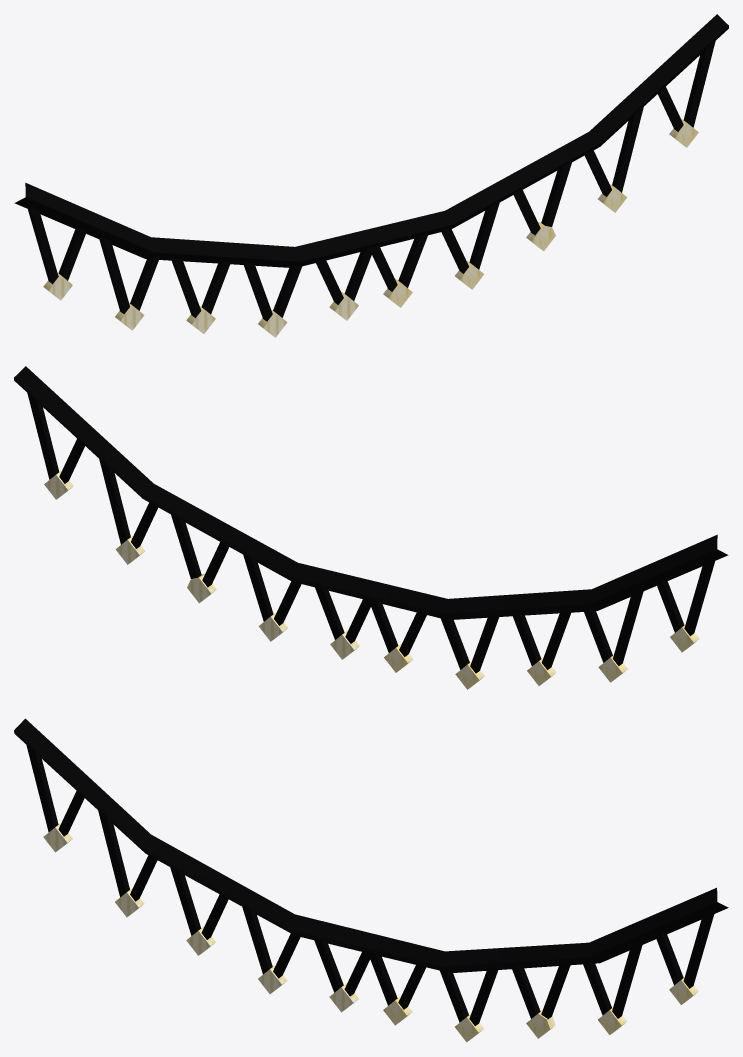
File: s0_Fence_01__1__01.glb
3 renders of one model, top to bottom at view 1: azimuth 30°, elevation 25°; view 2: azimuth 150°, elevation 25°; view 3: azimuth 330°, elevation 25°, orthographic.
Parts seen in each view (by area): view 1: node_Fence_01 (1); view 2: node_Fence_01 (1); view 3: node_Fence_01 (1).
Boxes of the visible parts, left/top/right/bottom form: node_Fence_01 (1): left=14, top=14, right=728, bottom=337; node_Fence_01 (1): left=14, top=366, right=728, bottom=689; node_Fence_01 (1): left=14, top=718, right=728, bottom=1042.
Size of what is drawn, in the model's own units: 2.45 by 0.7009 by 0.0697.
2 materials, 1 textured.
